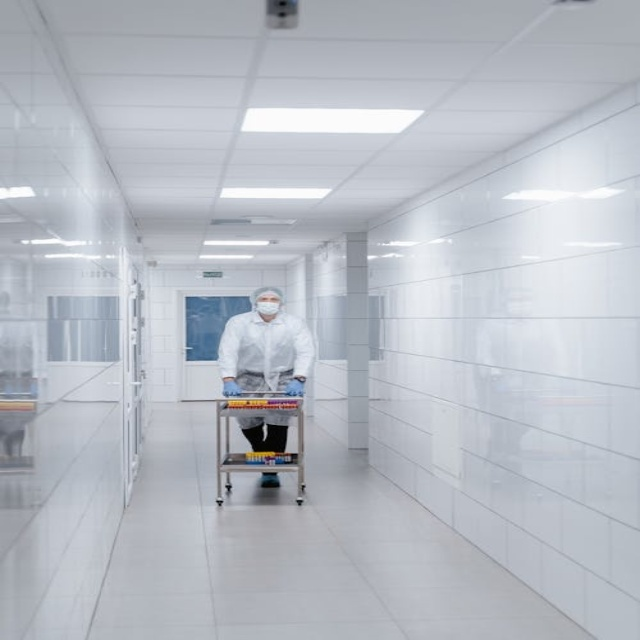Guantes: (284, 379, 304, 397), (223, 380, 242, 397)
Mascara: (255, 301, 281, 315)
Sin_gafas: (255, 296, 282, 303)
